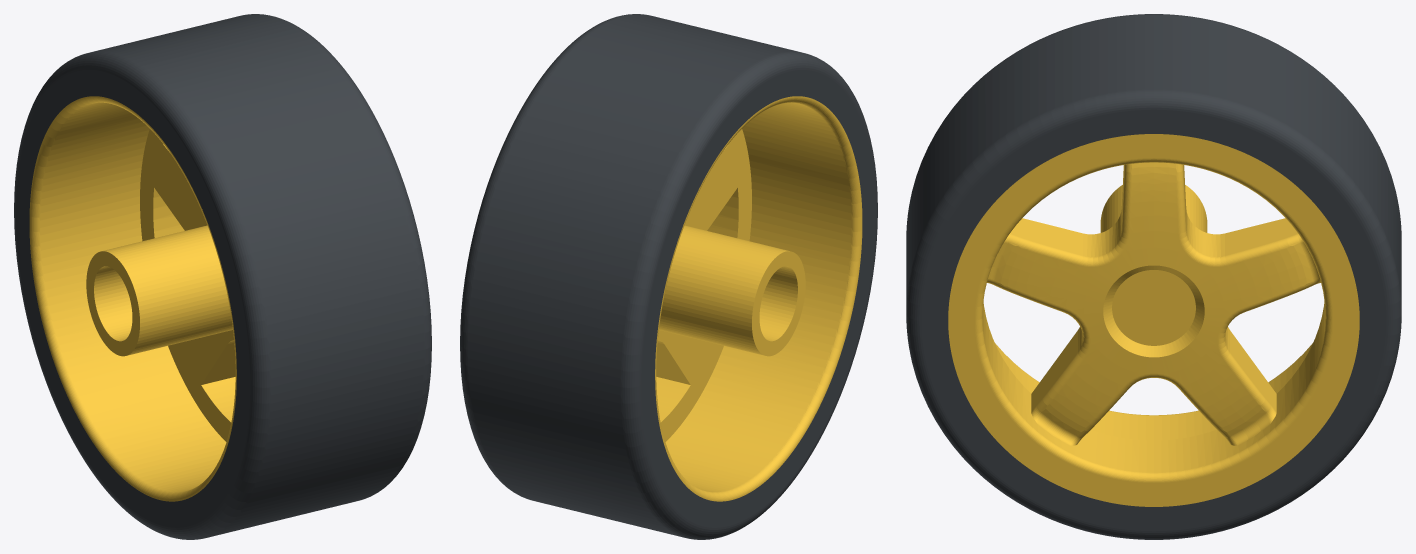
The model's file is twister_wheel.dae.
The picture shows the model from 3 angles, left to right: view 1: azimuth 30°, elevation 25°; view 2: azimuth 150°, elevation 25°; view 3: azimuth 270°, elevation 25°; orthographic projection.
Visible parts, largest first — view 1: Part 1 (×2); view 2: Part 1 (×2); view 3: Part 1 (×2).
Part boxes in pixels (x1=…): Part 1 (×2): x1=14, y1=14, x2=431, y2=539; Part 1 (×2): x1=460, y1=14, x2=877, y2=539; Part 1 (×2): x1=906, y1=14, x2=1401, y2=539.
Size of the model in its own units: 0.03 by 0.065 by 0.065.
